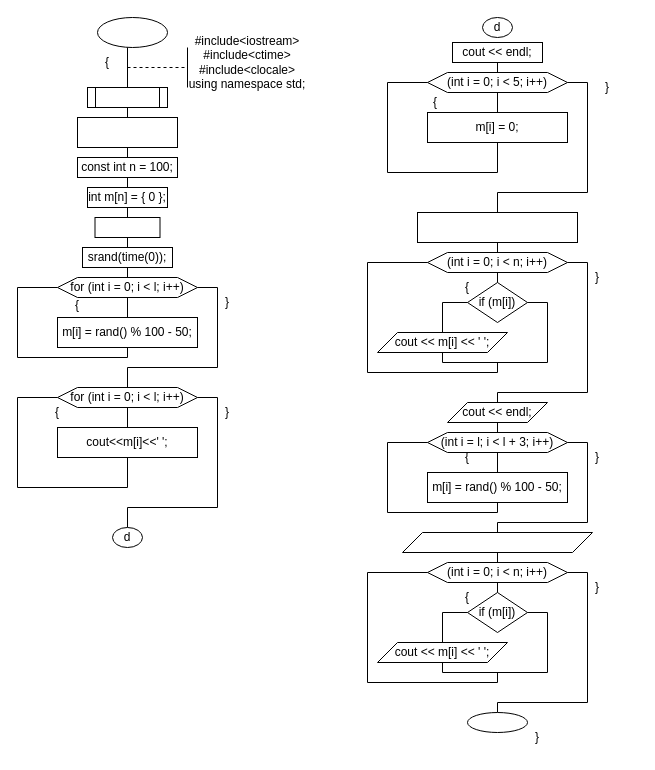
The diagram is 655 pixels wide and 770 high, and some of its shapes have lost their labels. The shapes that lost their labels are listed below. From the top down, each one's centre as x and y in pixels, then its label:
[132,32]: Начало
[127,97]: int main()
[127,132]: setlocale(LC_ALL, "RU");
[127,227]: int l = 10;
[497,227]: cout << "Массив без трех первых элементов - ";
[497,542]: cout << "Готовый массив - ";
[497,722]: return 0;
